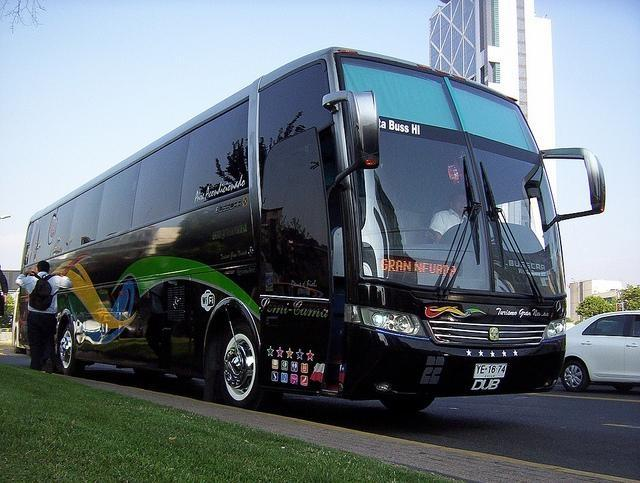bus: (9, 47, 604, 414)
car: (566, 312, 640, 392), (12, 288, 26, 355)
